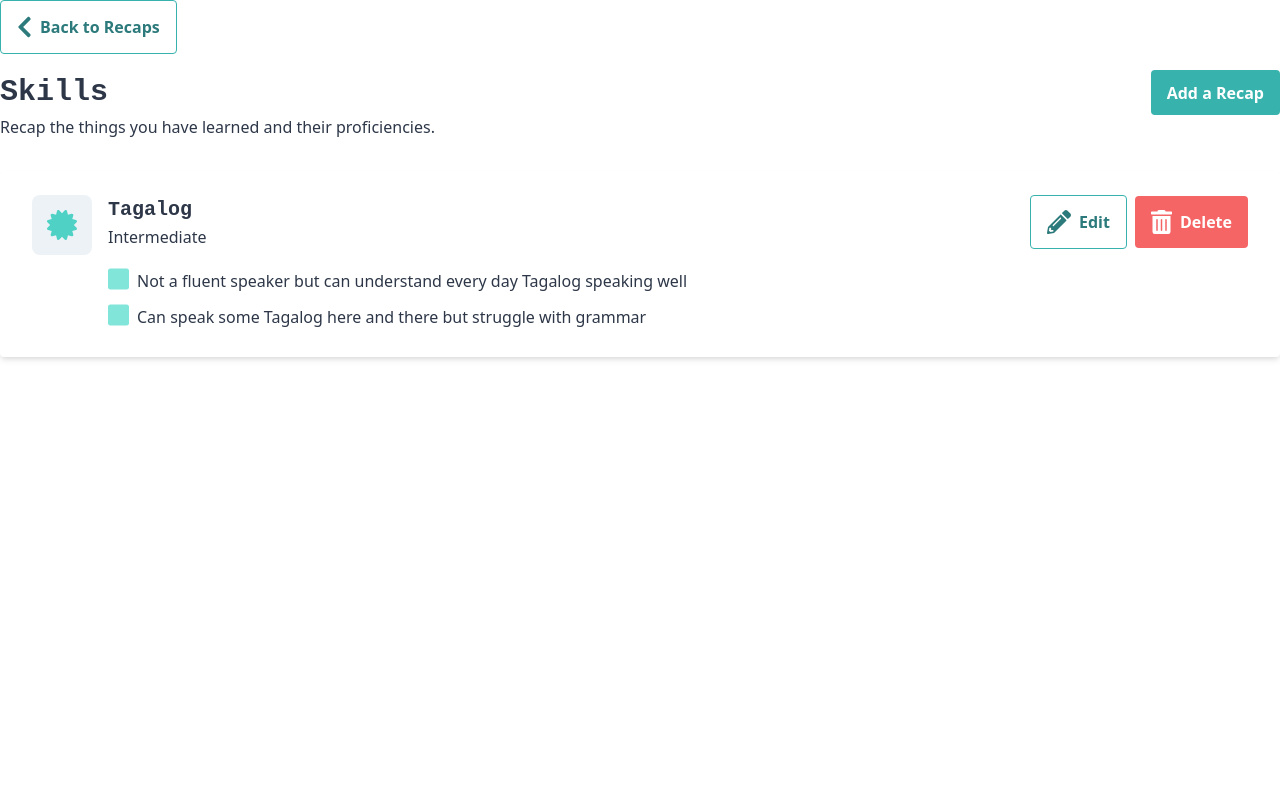
Test: <SkillsLayout /> › should show the error alert after failing to delete a recap
Click the button "Delete" at (1192, 222), box [1135,196,1248,248]
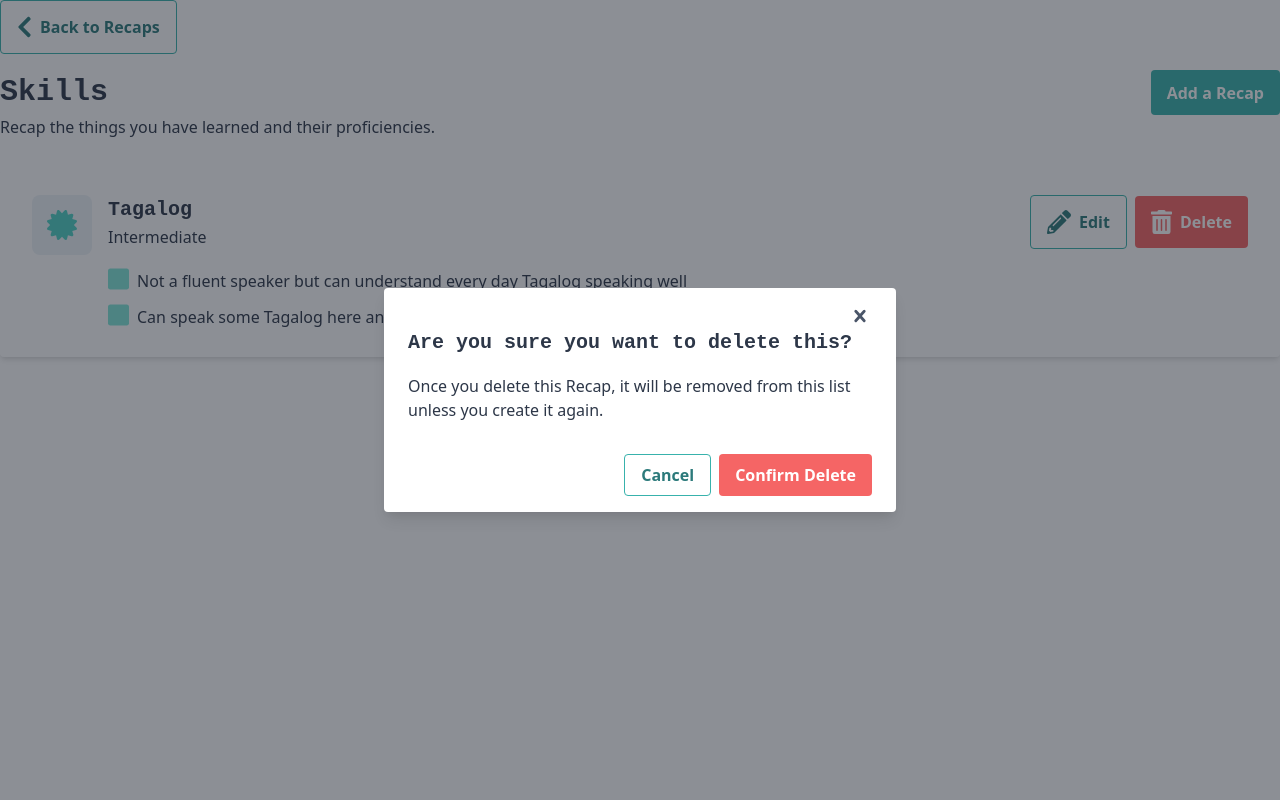
Expected: the heading "Are you sure you want to delete this?" is shown, [408,328,872,358]
Click the button "Confirm Delete" at (796, 475), box [719,454,872,496]
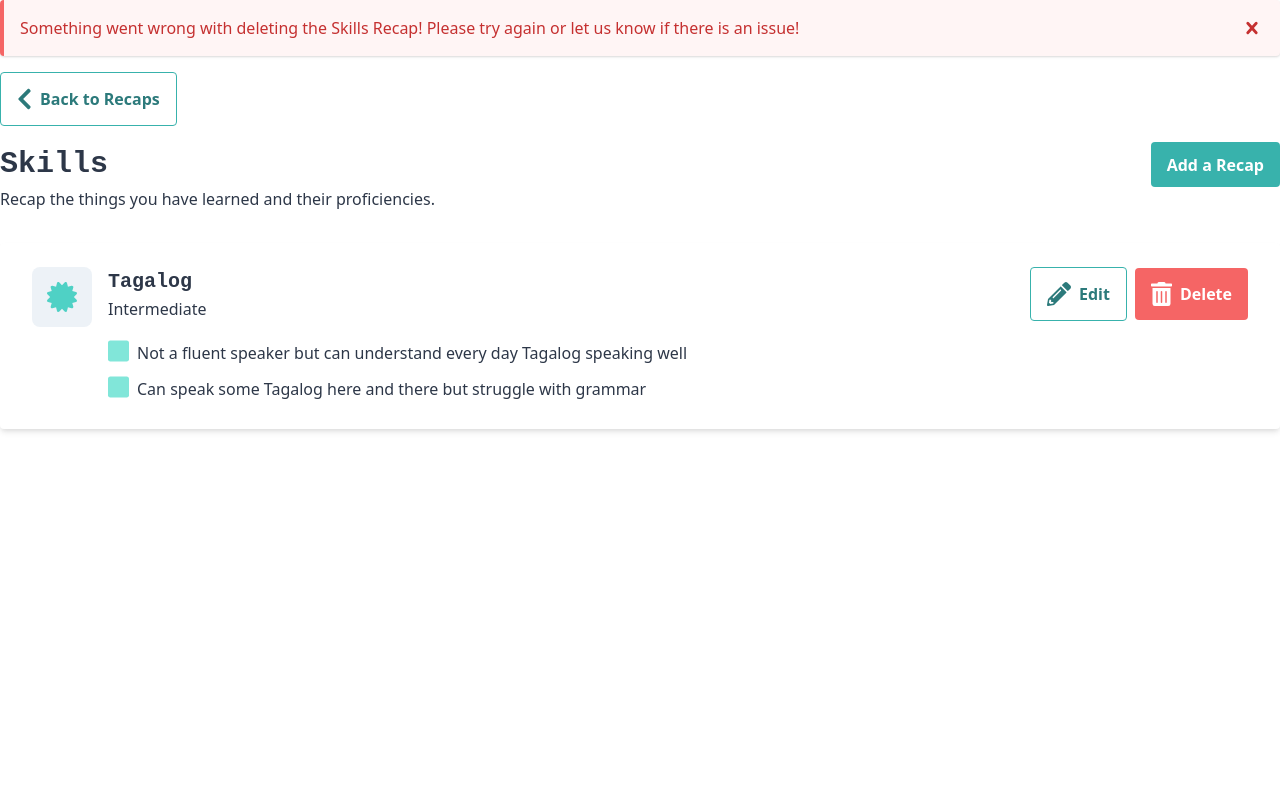
Expected: the heading "Are you sure you want to delete this?" is gone
Expected: the text "Something went wrong with deleting the Skills Recap!" is shown, [20,17,799,39]
